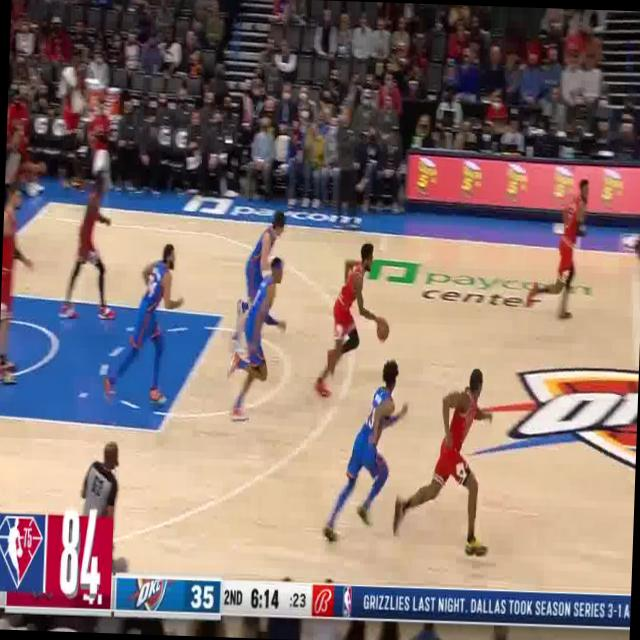ball-handler: (317, 227, 394, 406)
